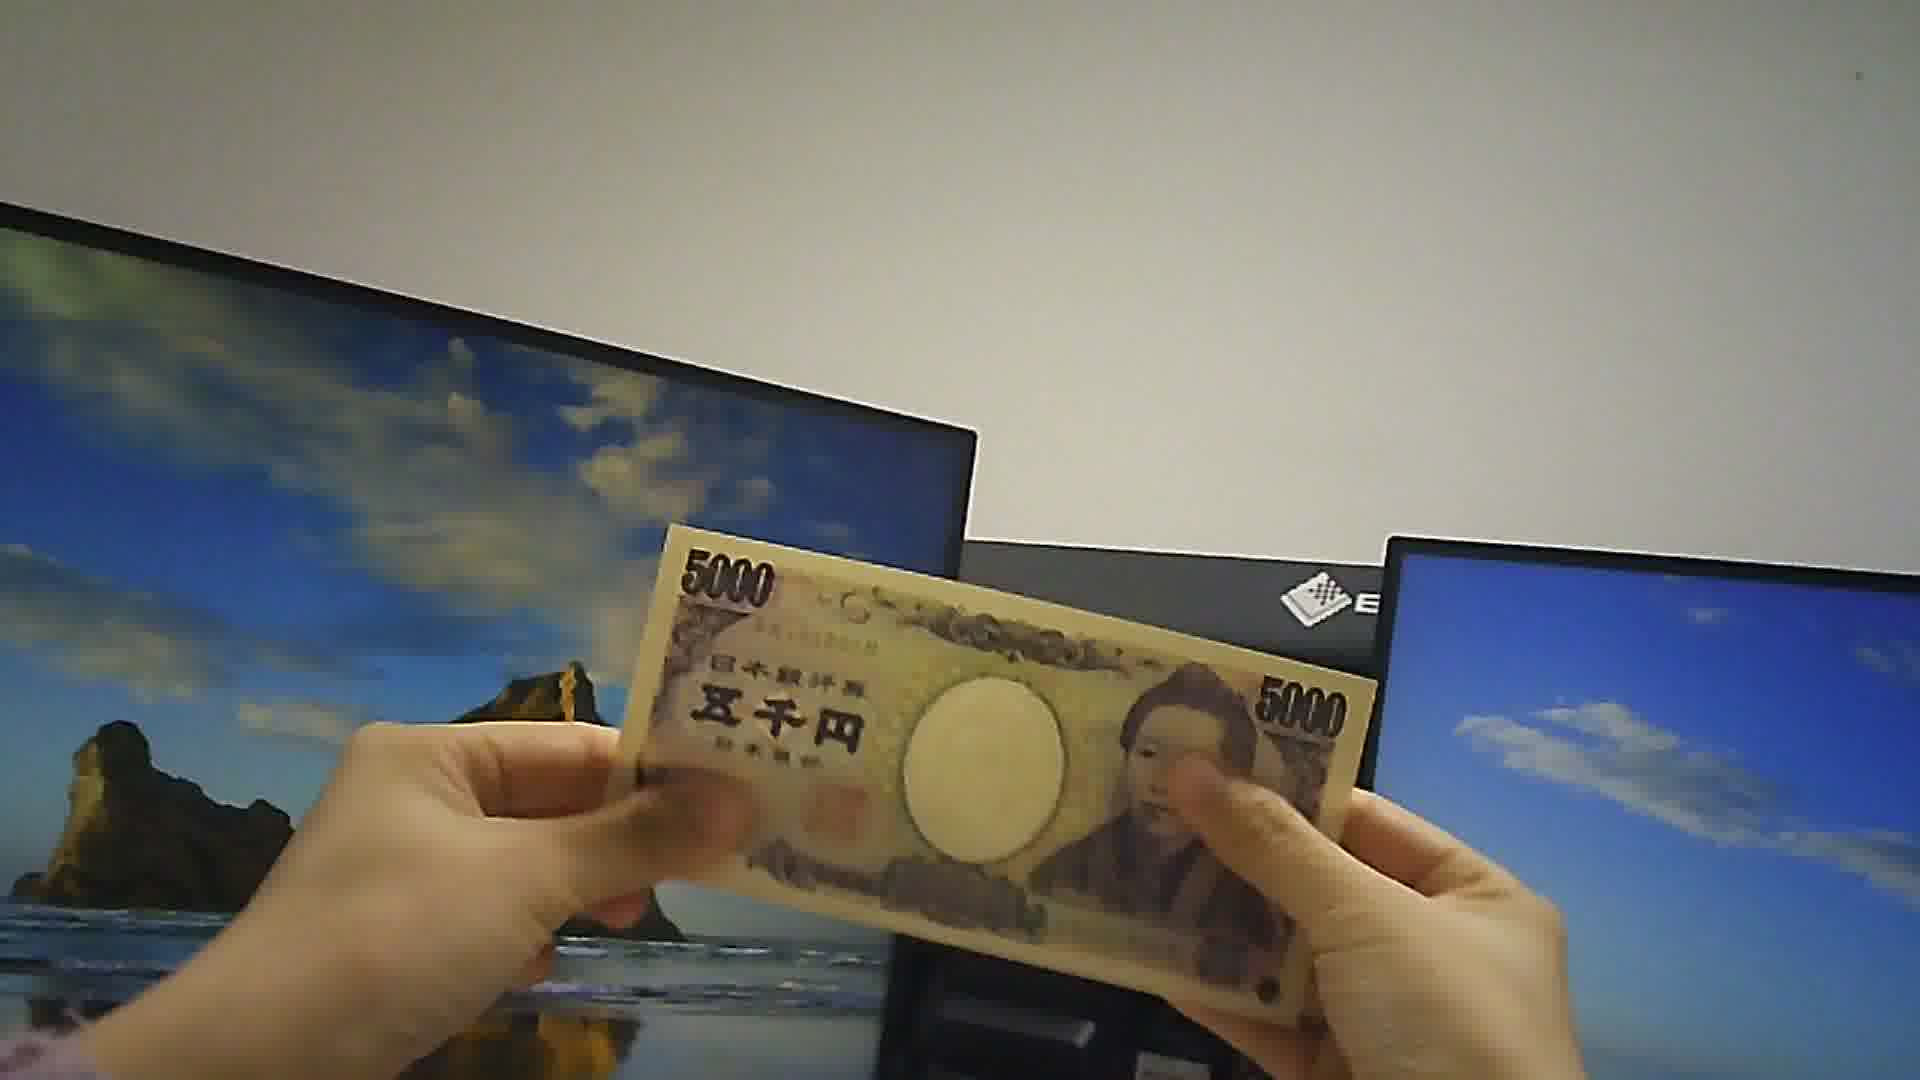5,000 Yen: (575, 501, 1365, 1025)
